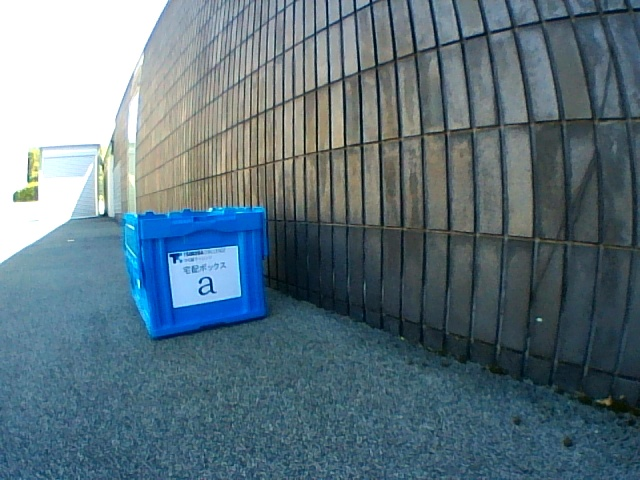blue_box: (122, 206, 266, 337)
tag_a: (186, 261, 229, 297)
